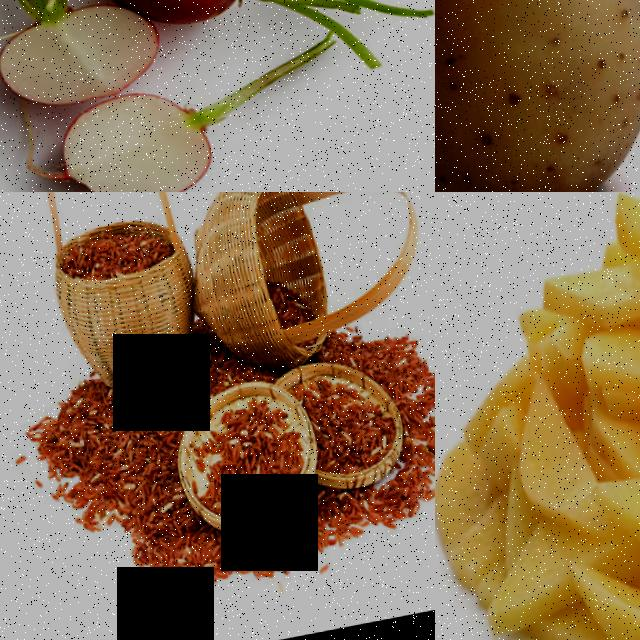potato: (435, 0, 640, 192), (492, 361, 597, 550), (528, 249, 640, 353), (551, 533, 640, 640), (576, 455, 640, 572)
radishes: (1, 72, 266, 192), (0, 0, 163, 125), (86, 0, 363, 31)
red rice: (25, 380, 172, 554), (175, 402, 298, 531), (286, 374, 388, 490), (53, 229, 169, 291), (354, 339, 420, 395)
